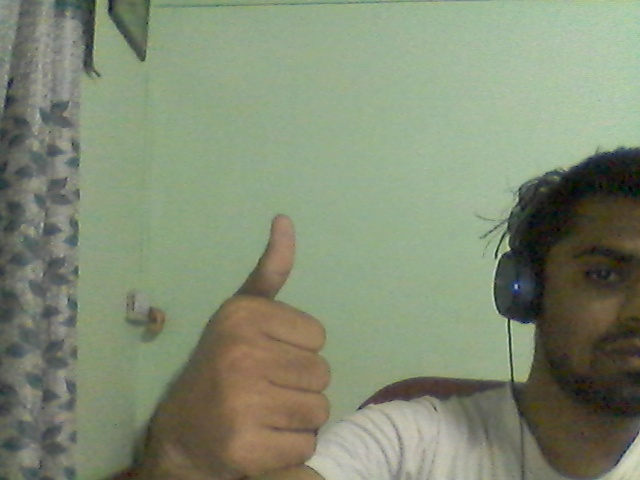Yes: (142, 201, 390, 475)
